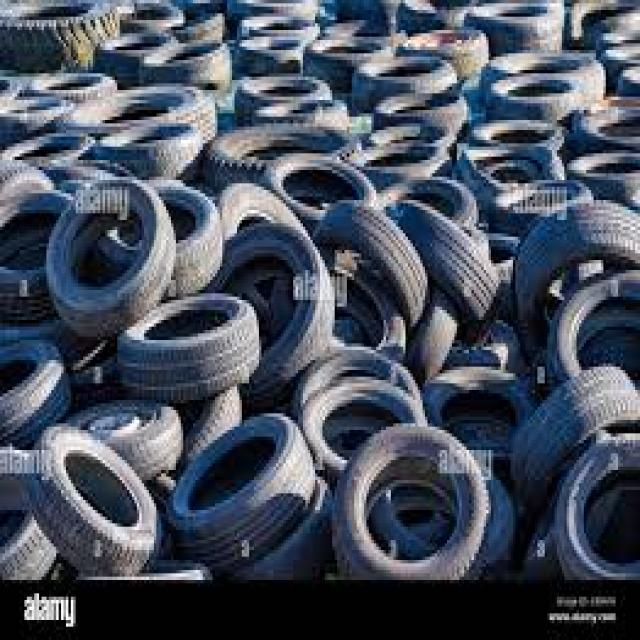Rubber -Non-Biodegradable but Recyclable-: (0, 0, 638, 571)
